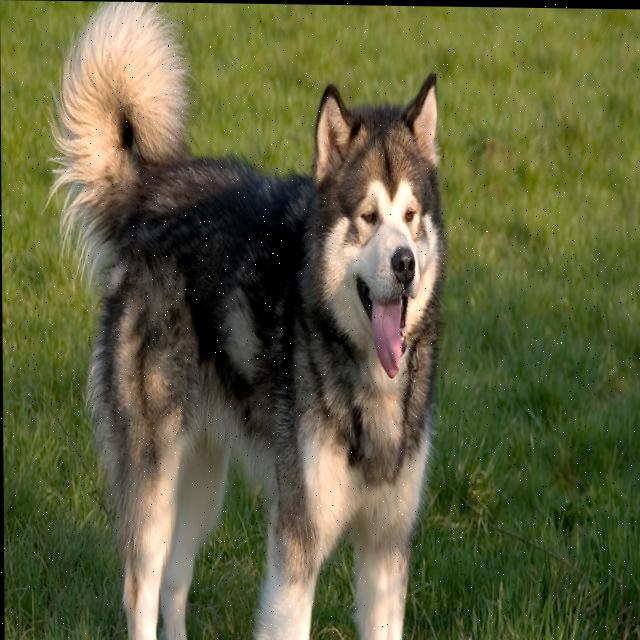ALASKAN_MALAMUTE: (44, 1, 455, 640)
